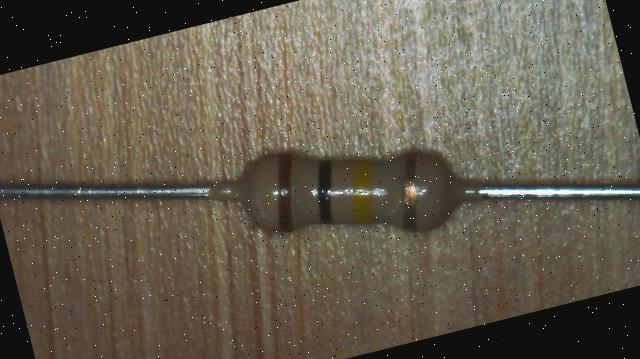black: (306, 157, 346, 224)
brown: (262, 150, 310, 231)
gold: (388, 152, 433, 232)
resistor: (216, 130, 472, 250)
yellow: (340, 157, 385, 226)
